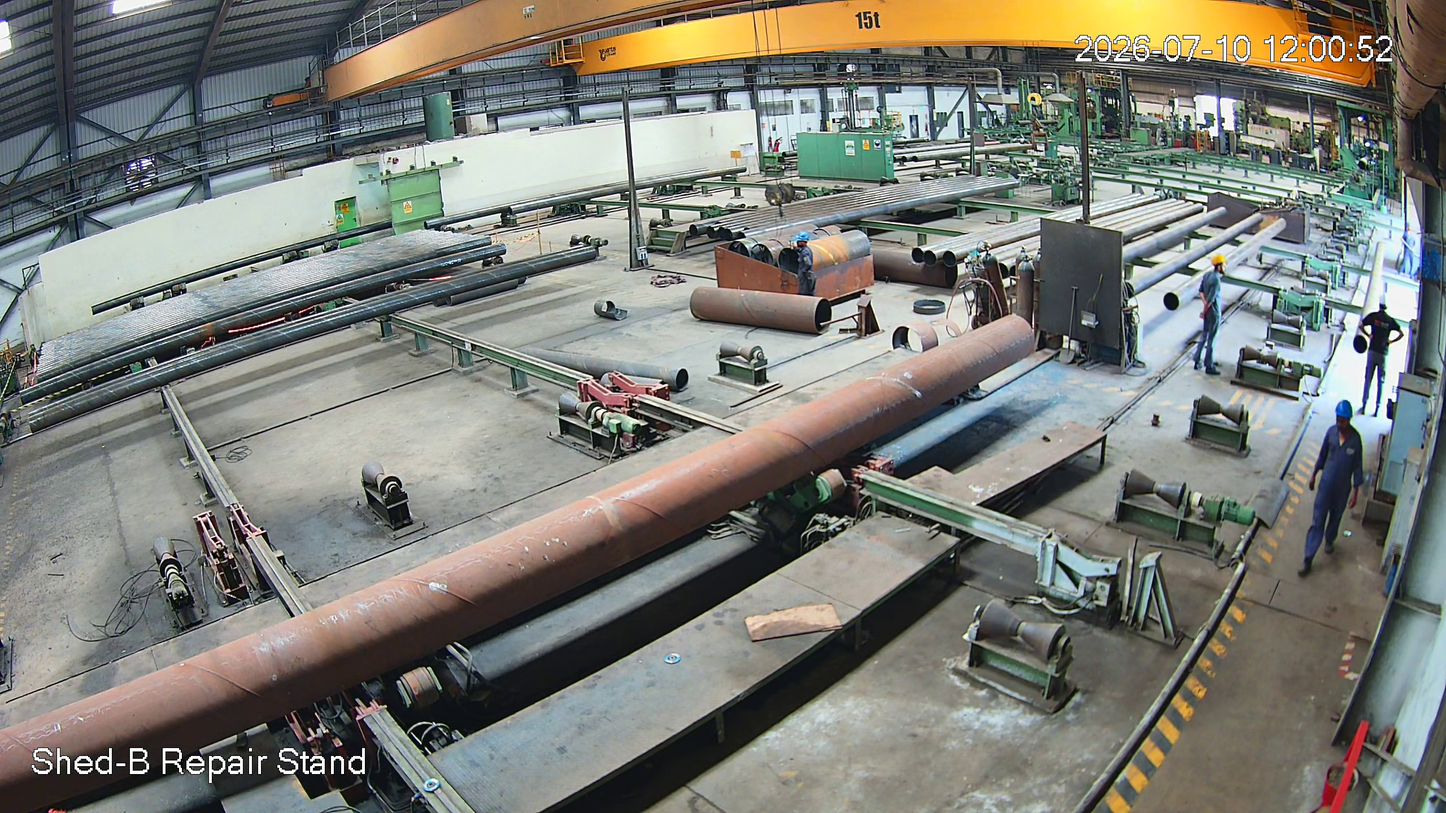Helmet: (1331, 397, 1362, 438), (1209, 249, 1230, 286), (793, 228, 814, 251)
Person: (1311, 400, 1358, 561), (1355, 292, 1405, 417), (1190, 252, 1231, 390), (794, 230, 818, 303)
